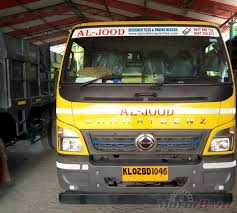numberplate: (120, 166, 169, 182)
